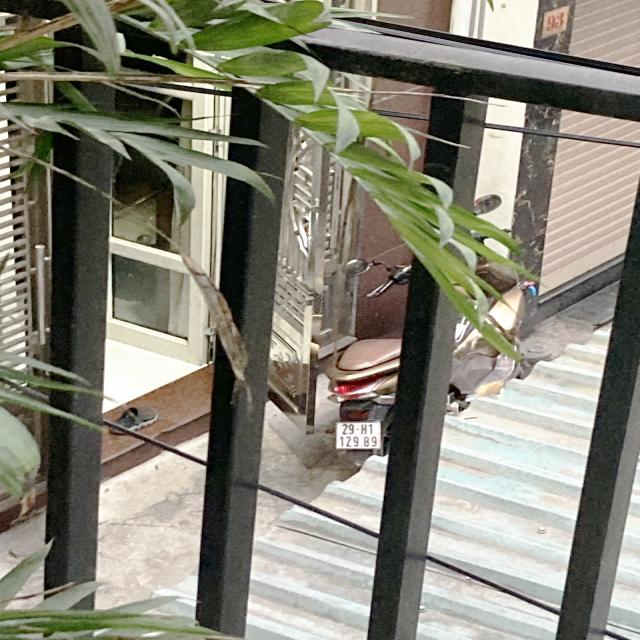license_plate: (332, 419, 386, 454)
